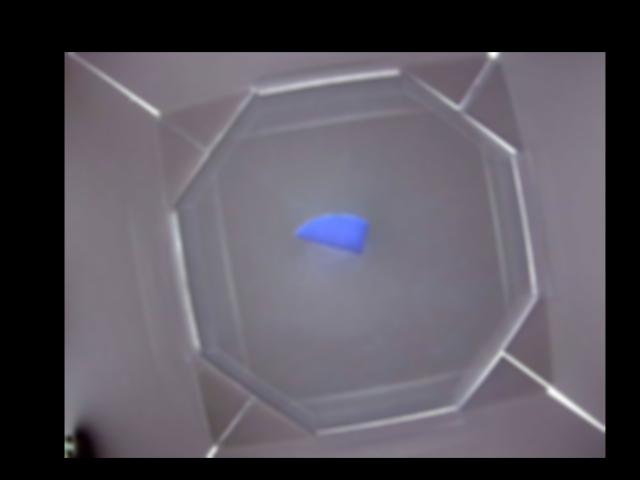Potato: (297, 215, 369, 256)
